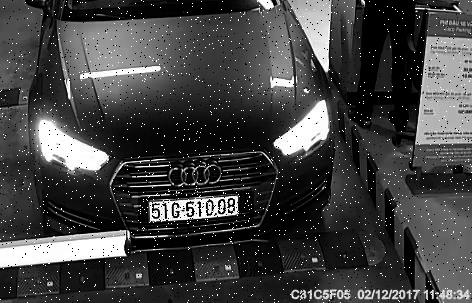License-plate: (140, 192, 257, 229)
